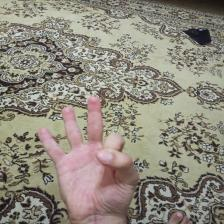five: (35, 94, 141, 217)
